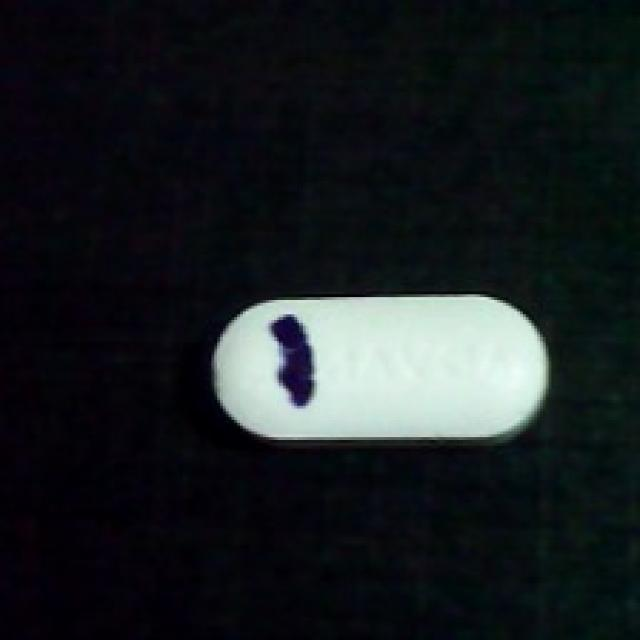defected: (189, 283, 557, 454)
